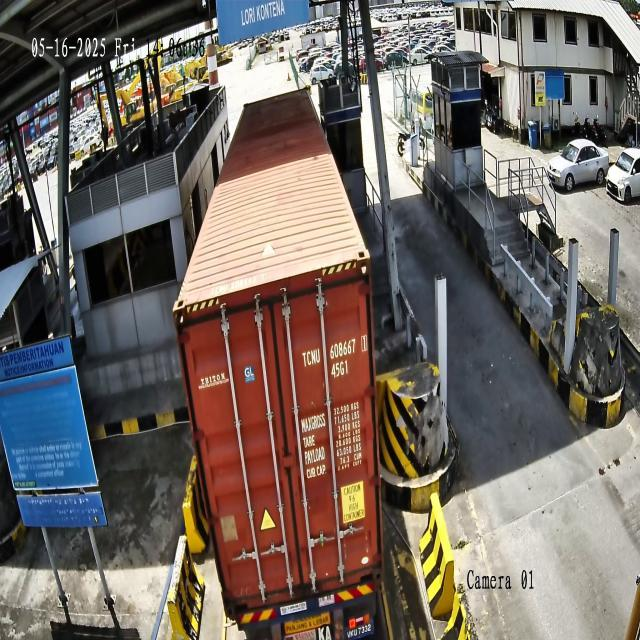ISO: (331, 358, 352, 381)
container_number: (300, 328, 370, 368)
